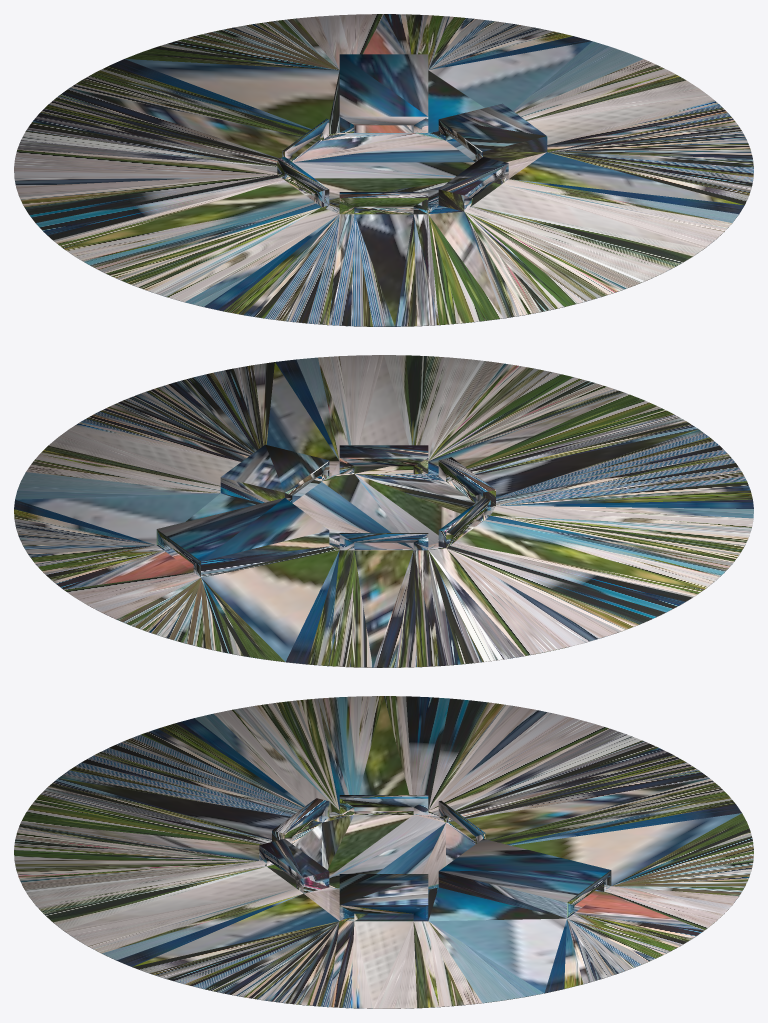
Rendered from parkour_5.dae.
3 views of the same model, one above another, from view 1: azimuth 30°, elevation 25°; view 2: azimuth 150°, elevation 25°; view 3: azimuth 270°, elevation 25° (orthographic).
Visible parts, largest first — view 1: Parkour_4; view 2: Parkour_4; view 3: Parkour_4.
Part boxes in pixels (x1,y1,x2,y2): Parkour_4: (14,14,753,326); Parkour_4: (14,355,753,667); Parkour_4: (14,696,753,1008).
Bounding box in the file's own units: 24.99 × 25 × 0.61.
Materials: 1 (1 with a texture image).
